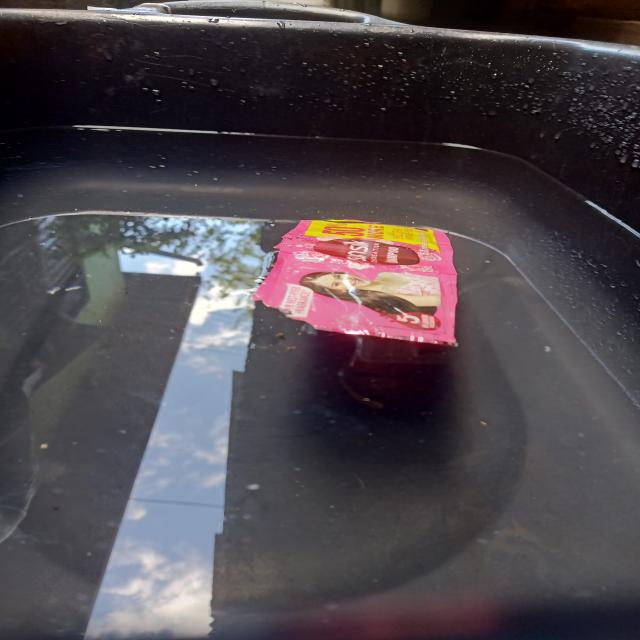Plastic Wrapper: (267, 204, 485, 362)
